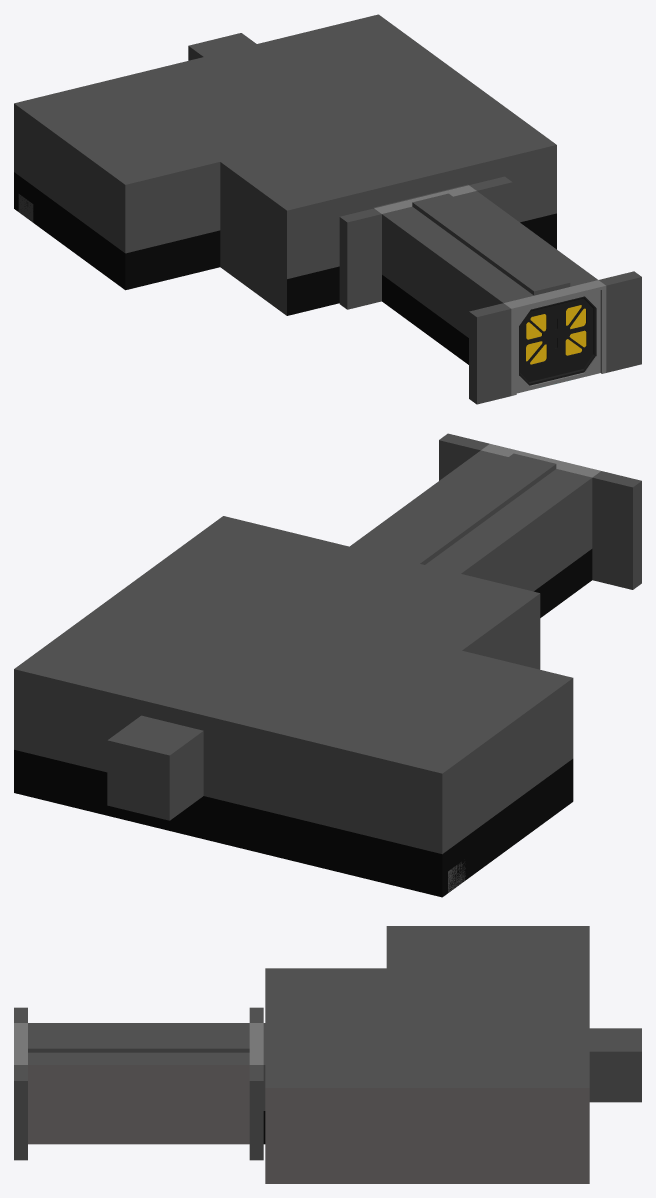
File: sci-fi room.fbx
3 views of the same model, one above another, from view 1: azimuth 30°, elevation 25°; view 2: azimuth 150°, elevation 25°; view 3: azimuth 270°, elevation 25° (orthographic). The views are drawn at different scales.
Visible parts, largest first — view 1: Room, Door2, Door4, emissive.001; view 2: Room; view 3: Room.
Part boxes in pixels (x1,y1,x2,y2): Room: (14, 14, 641, 404); Door2: (556, 296, 595, 378); Door4: (519, 303, 556, 385); emissive.001: (526, 305, 586, 364); Room: (14, 433, 641, 897); Room: (14, 926, 641, 1183).
Bounding box in the file's own units: 1195 × 347 × 1959.
